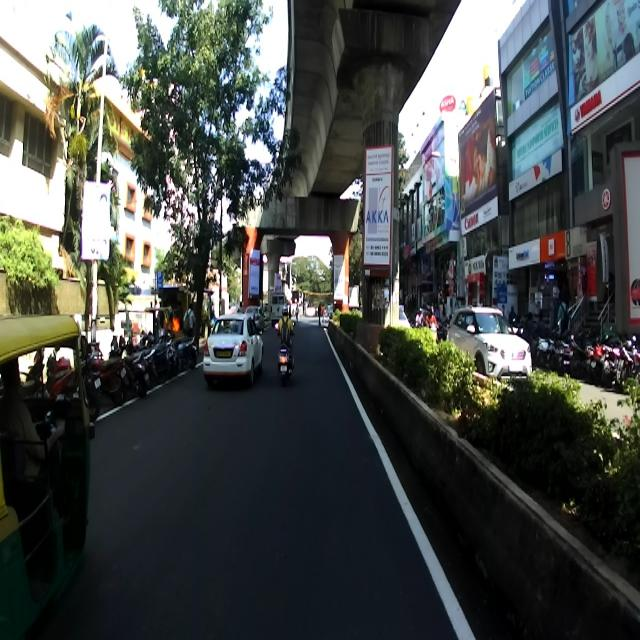Car_Hyundai: (448, 302, 534, 386)
Car_Maruti-Suzuki: (203, 312, 264, 386)
autorickshaw: (0, 314, 96, 639)
motorcycle_Hero: (88, 342, 128, 404)
scooter: (104, 336, 149, 388), (274, 315, 294, 384)
